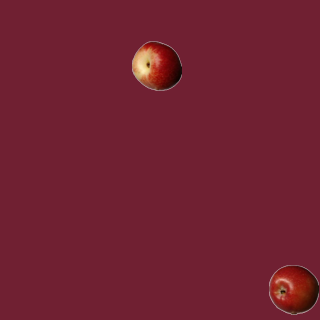Apple Braeburn: (268, 264, 318, 314)
Nectarine: (131, 40, 181, 90)
